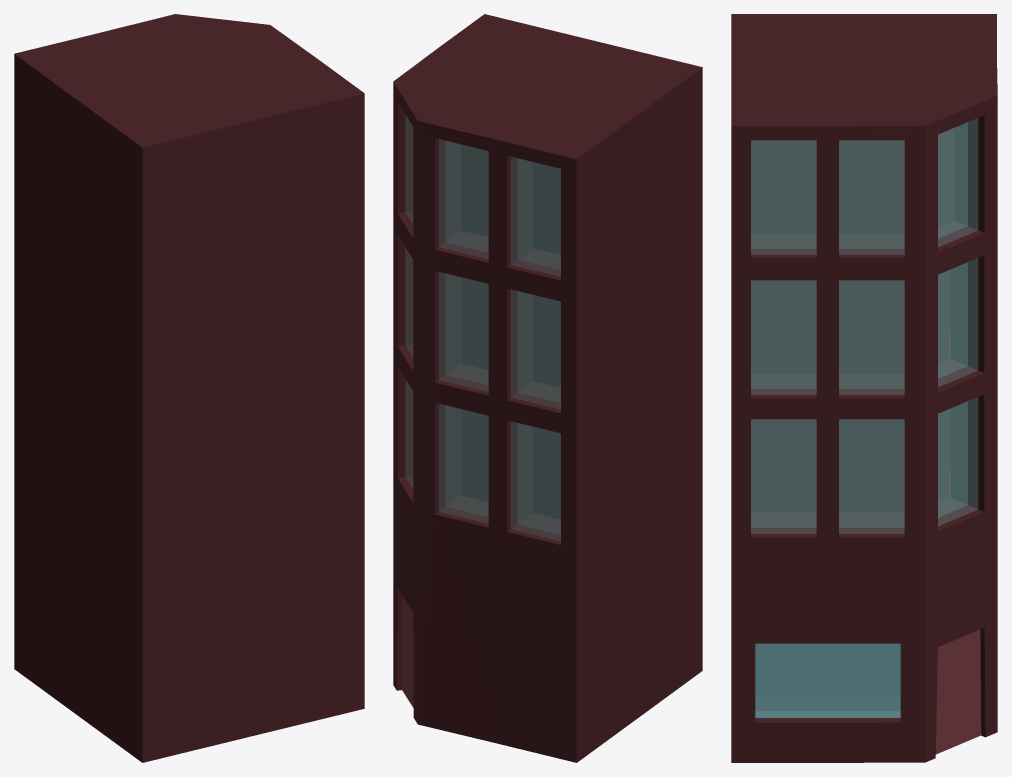
Rendered from slim_corner_building.dae.
3 renders of one model, left to right at view 1: azimuth 30°, elevation 25°; view 2: azimuth 150°, elevation 25°; view 3: azimuth 270°, elevation 25°, orthographic. The views are drawn at different scales.
Parts seen in each view (by area): view 1: Cube; view 2: Cube, Cube.007, Cube.002, Cube.003; view 3: Cube, Cube.001, Cube.002, Cube.004, Cube.003.
Boxes of the visible parts, x1,y1,x2,y2 form: Cube: (14,14,364,762); Cube: (393,14,702,762); Cube.007: (439,139,560,540); Cube.002: (405,115,412,487); Cube.003: (402,596,413,707); Cube: (731,14,997,762); Cube.001: (751,140,904,533); Cube.002: (938,118,977,525); Cube.004: (755,643,900,717); Cube.003: (935,629,981,754).
Bounding box in the file's own units: 8.11 × 8.13 × 21.44.
